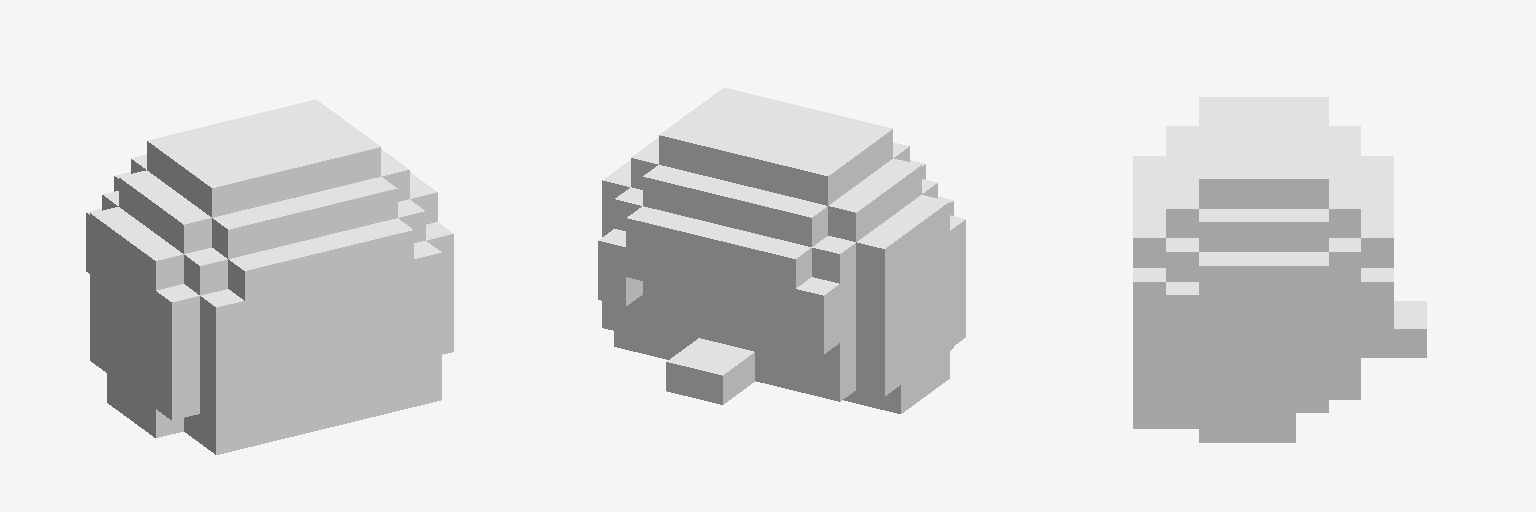
Rendered from TETE.obj.
3 views of the same model, side by side, from view 1: azimuth 30°, elevation 25°; view 2: azimuth 150°, elevation 25°; view 3: azimuth 270°, elevation 25° (orthographic).
Visible parts, largest first — view 1: object 1; view 2: object 1; view 3: object 1.
Boxes of the visible parts, <box> form: object 1: <box>86,100,453,454</box>; object 1: <box>598,88,965,413</box>; object 1: <box>1133,97,1426,442</box>.
Size of the model in its own units: 1 by 0.8 by 0.9.